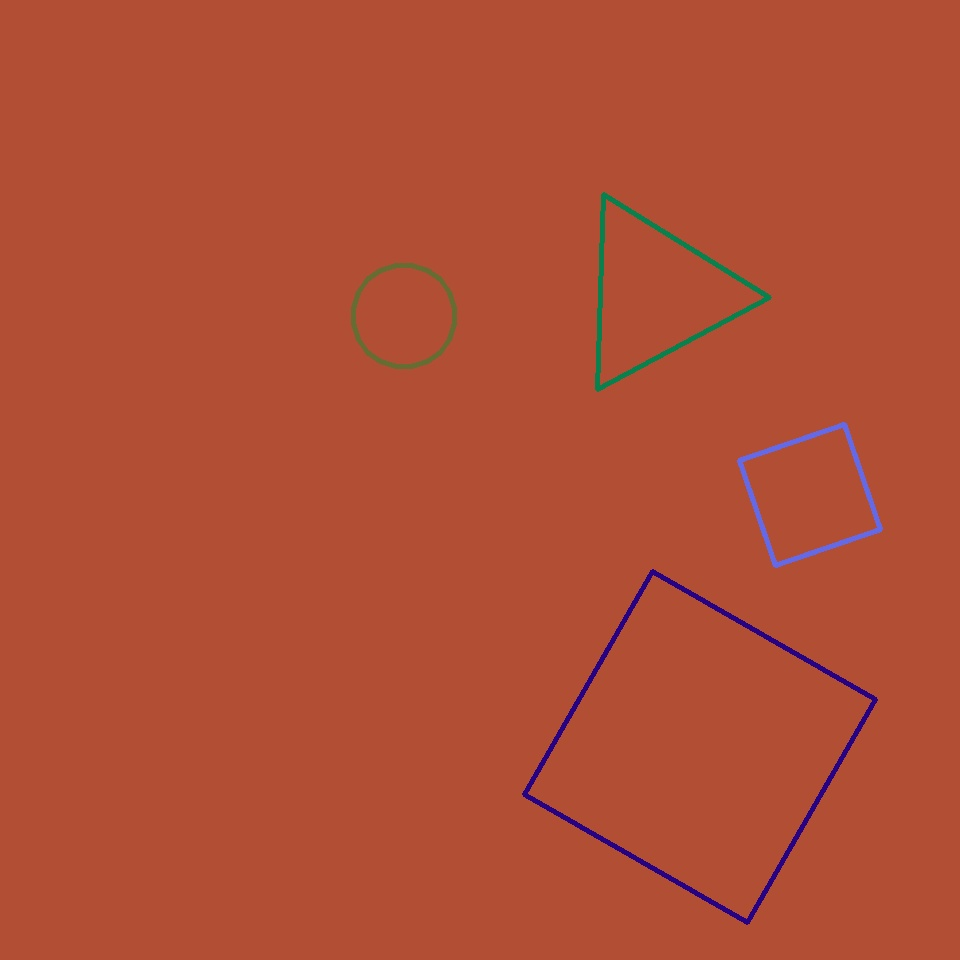circle: (571, 197, 743, 392)
square: (524, 571, 875, 922), (740, 424, 880, 566)
triangle: (354, 266, 454, 366)
